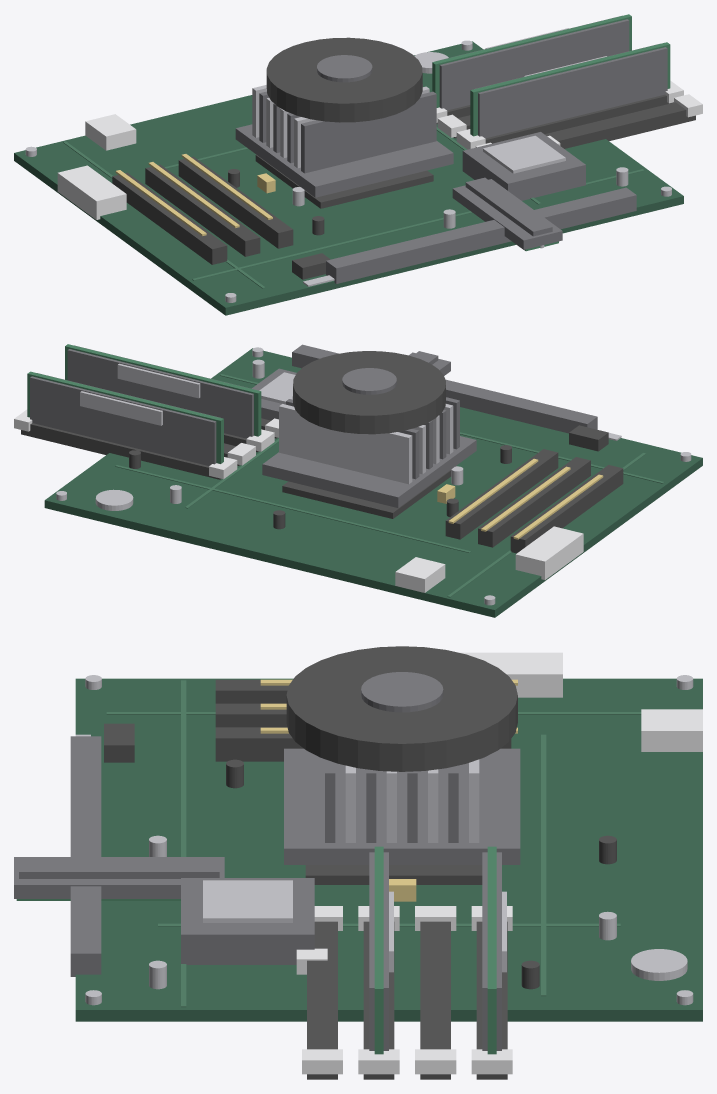
The model's file is PC_Components.fbx.
3 views of the same model, one above another, from view 1: azimuth 30°, elevation 25°; view 2: azimuth 150°, elevation 25°; view 3: azimuth 270°, elevation 25° (orthographic). The views are drawn at different scales.
Visible parts, largest first — view 1: Board_ATX, FanBody, Stick_Spreader_B, IO_Connectors, Stick_Spreader_B.001, Fin_0, CoolerBase, Chipset, RAM_Slot_0, PCIe_1, PCIe_2, PCIe_0 (+15 smaller); view 2: Board_ATX, FanBody, Stick_Spreader_A.001, Fin_7, Stick_Spreader_A, CoolerBase, IO_Connectors, PCIe_2, PCIe_1, PCIe_0, Power24pin, RAM_Slot_3 (+19 smaller); view 3: Board_ATX, FanBody, CoolerBase, Chipset, IO_Connectors, RAM_Slot_2, M2_FinsTop, Chipset_detail, RAM_Slot_0, M2_Heatsink, SocketFrame, Power24pin (+31 smaller).
Boxes of the visible parts, x1,y1,x2,y2 form: Board_ATX: (14,41,683,315); FanBody: (266,37,422,122); Stick_Spreader_B: (478,47,667,138); IO_Connectors: (326,187,636,283); Stick_Spreader_B.001: (439,19,629,110); Fin_0: (301,91,436,173); CoolerBase: (235,124,453,197); Chipset: (462,132,585,200); RAM_Slot_0: (545,102,695,148); PCIe_1: (145,164,260,256); PCIe_2: (178,156,293,248); PCIe_0: (112,172,227,264); Board_ATX: (44,348,702,617); FanBody: (293,351,445,434); Stick_Spreader_A.001: (30,376,216,465); Fin_7: (279,404,412,484); Stick_Spreader_A: (67,349,253,438); CoolerBase: (262,436,476,507); IO_Connectors: (292,344,597,433); PCIe_2: (445,449,558,539); PCIe_1: (478,457,590,547); PCIe_0: (510,465,623,553); Power24pin: (515,526,583,579); RAM_Slot_3: (21,423,221,479); Board_ATX: (75,678,702,1021); FanBody: (286,646,517,771); CoolerBase: (284,748,520,864); Chipset: (181,878,314,964); IO_Connectors: (70,736,101,976); RAM_Slot_2: (420,921,450,1079); M2_FinsTop: (19,858,219,878); Chipset_detail: (203,880,292,922); RAM_Slot_0: (307,921,337,1079); M2_Heatsink: (14,857,224,898); SocketFrame: (305,865,482,884); Power24pin: (459,652,562,697).
Bounding box in the file's own units: 0.371 × 0.0715 × 0.268.
